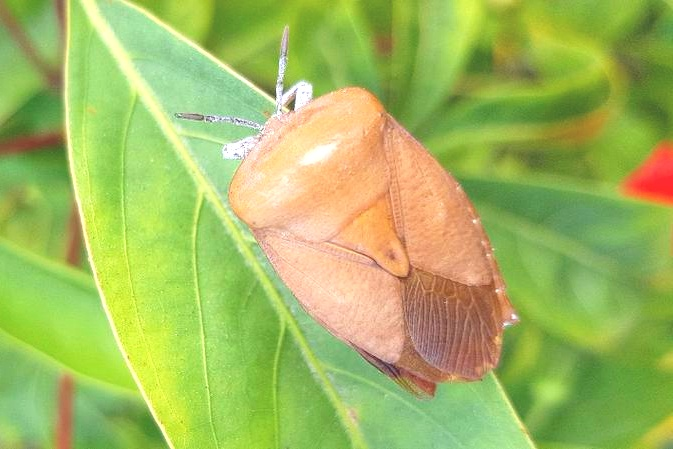Stink_Bug: (239, 50, 507, 374)
